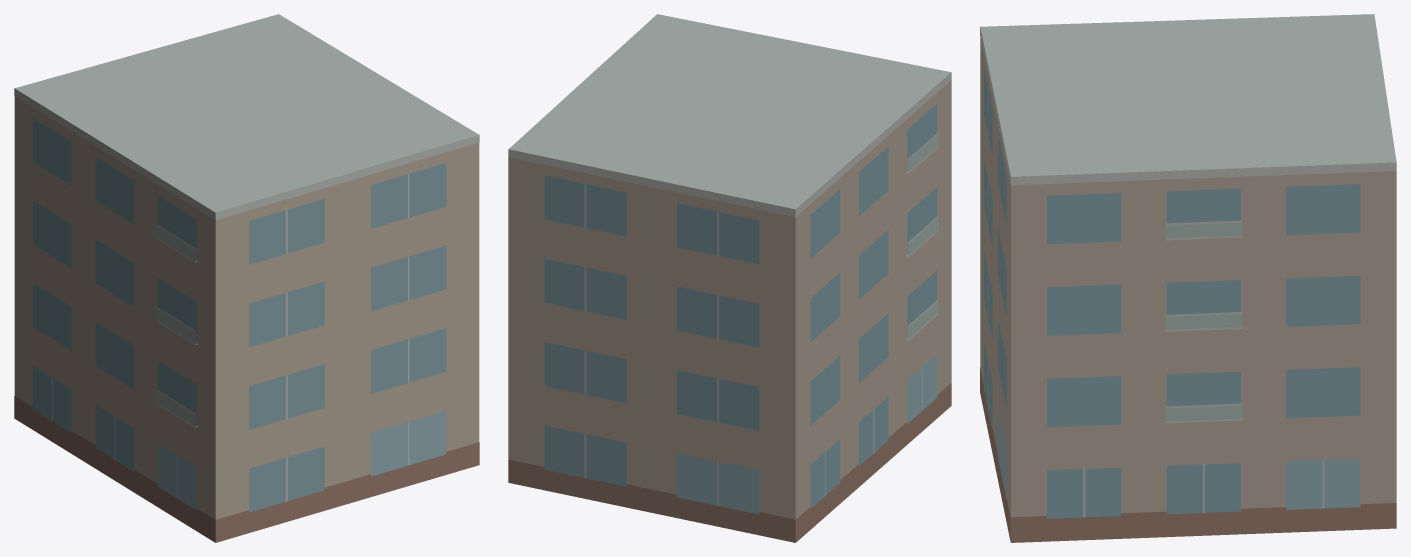
The model's file is survey-upis-32726752.glb.
3 views of the same model, side by side, from view 1: azimuth 30°, elevation 25°; view 2: azimuth 150°, elevation 25°; view 3: azimuth 270°, elevation 25° (orthographic). The views are drawn at different scales.
Parts seen in each view (by area): view 1: survey-upis-32726752.tmp; view 2: survey-upis-32726752.tmp; view 3: survey-upis-32726752.tmp.
Boxes of the visible parts, x1,y1,x2,y2 form: survey-upis-32726752.tmp: (14,14,479,542); survey-upis-32726752.tmp: (508,14,951,542); survey-upis-32726752.tmp: (980,14,1396,542).
Bounding box in the file's own units: 10.03 × 10.5 × 10.84.
